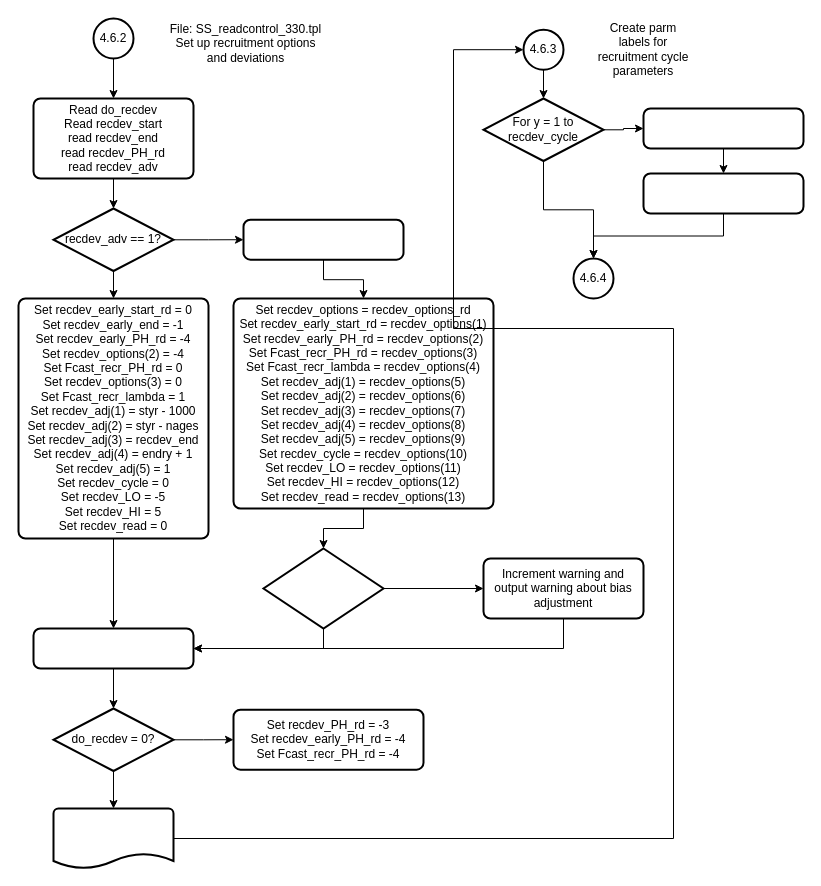
This 821x886 diagram has some shape labels left out. The shapes that lost their labels are listed below. From the top down, each one's centre as x and y in pixels, then its label:
(x=723, y=128): Increment ParCount
(x=723, y=193): Set ParmLabel to "RecrDev_Cycle_" + y
(x=323, y=239): Read recdev_options_rd
(x=323, y=588): do_recdev > 0 && recdev_adj(4) > endyr+1?
(x=113, y=648): Set recdev_early_start = recdev_early_start_rd
(x=113, y=838): Output advanced settings to echoinput
